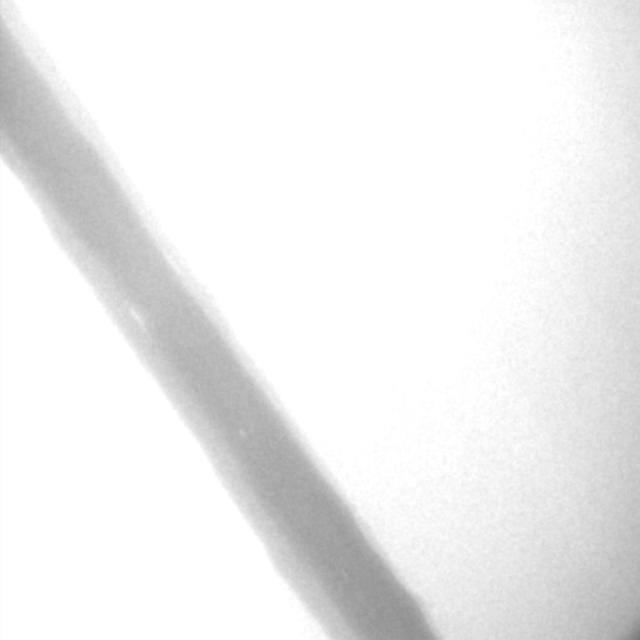air-hole: (129, 305, 144, 327), (241, 431, 244, 438)
broken-arc: (339, 500, 463, 640)
